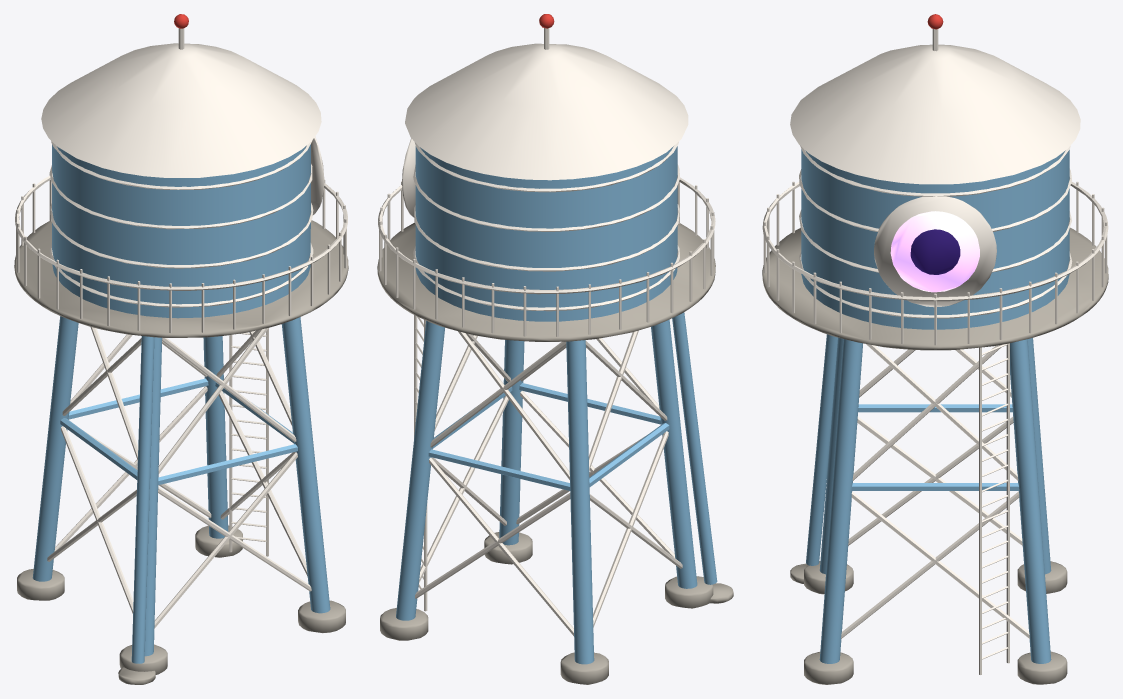
The model's file is water_tower.glb.
3 views of the same model, side by side, from view 1: azimuth 30°, elevation 25°; view 2: azimuth 150°, elevation 25°; view 3: azimuth 270°, elevation 25° (orthographic). The views are drawn at different scales.
Visible parts, largest first — view 1: water_tower; view 2: water_tower; view 3: water_tower.
Part boxes in pixels (box(x1,y1,x2,y2)): water_tower: box(14, 14, 348, 684); water_tower: box(377, 14, 733, 684); water_tower: box(762, 14, 1108, 684).
Size of the model in its own units: 6.19 by 12.14 by 6.2.
1 material, 1 textured.
